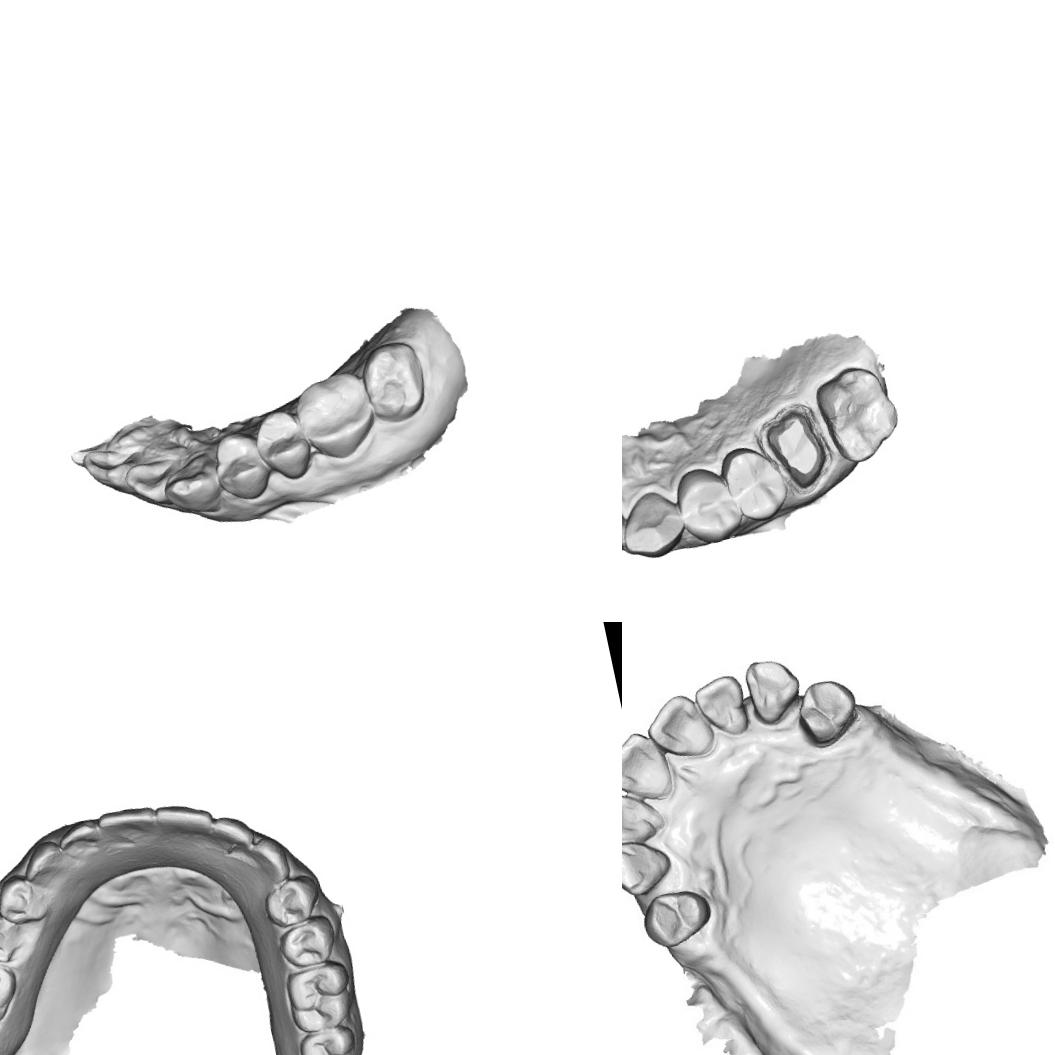canine: (154, 444, 235, 524), (622, 484, 691, 565), (738, 652, 803, 728), (15, 832, 70, 896), (622, 832, 675, 897), (244, 831, 295, 888)
crown: (756, 400, 836, 498)
incisor: (642, 686, 718, 764), (119, 444, 192, 514), (78, 436, 149, 504), (148, 794, 218, 858), (94, 798, 166, 859), (691, 672, 751, 738), (622, 728, 672, 804), (52, 811, 112, 866), (205, 808, 260, 859), (622, 787, 663, 851)
molar: (810, 356, 908, 470), (284, 365, 383, 468), (353, 334, 437, 432), (279, 951, 368, 1042), (294, 1020, 368, 1055), (0, 940, 27, 1035)
premolar: (669, 458, 748, 551), (716, 437, 795, 528), (634, 880, 720, 952), (249, 404, 317, 488), (209, 427, 277, 508), (792, 673, 865, 748), (256, 870, 329, 936), (272, 911, 340, 973), (0, 865, 53, 933), (0, 904, 34, 972)
